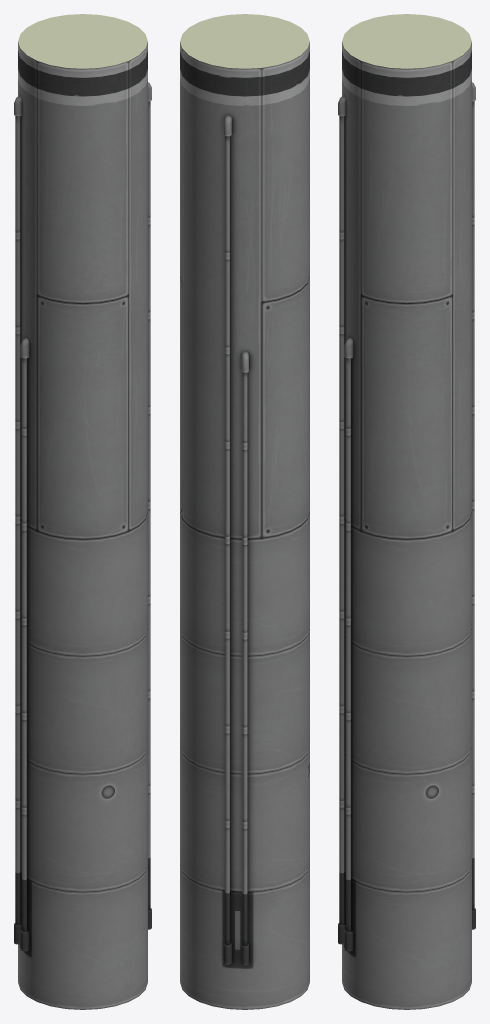
File: Knight_FuelTank_0_1.obj
3 views of the same model, side by side, from view 1: azimuth 90°, elevation 25°; view 2: azimuth 150°, elevation 25°; view 3: azimuth 270°, elevation 25° (orthographic).
Parts seen in each view (by area): view 1: Knight_FuelTank_0_1_Knight_FuelTank_0_1_auv, Knight_FuelTank_0_1_default; view 2: Knight_FuelTank_0_1_Knight_FuelTank_0_1_auv, Knight_FuelTank_0_1_default; view 3: Knight_FuelTank_0_1_Knight_FuelTank_0_1_auv, Knight_FuelTank_0_1_default.
Part boxes in pixels (x1,y1,x2,y2): Knight_FuelTank_0_1_Knight_FuelTank_0_1_auv: (14,42,151,1009); Knight_FuelTank_0_1_default: (18,14,147,68); Knight_FuelTank_0_1_Knight_FuelTank_0_1_auv: (180,42,309,1009); Knight_FuelTank_0_1_default: (180,14,309,68); Knight_FuelTank_0_1_Knight_FuelTank_0_1_auv: (338,42,475,1009); Knight_FuelTank_0_1_default: (342,14,471,68).
Bounding box in the file's own units: 0.625 × 5 × 0.6641.
